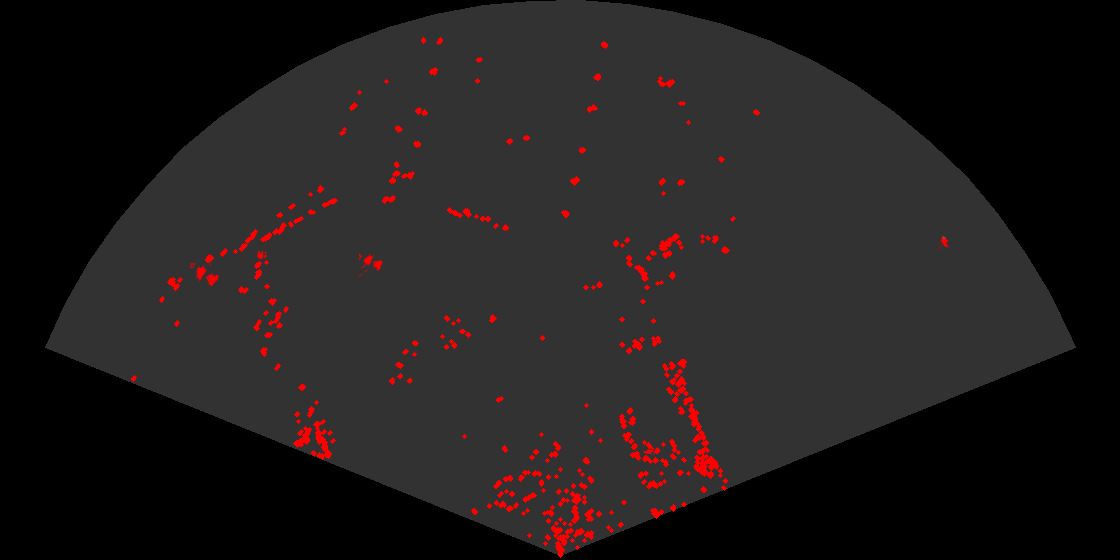AUV: (937, 234, 950, 249), (641, 448, 654, 454)
ball: (256, 249, 268, 261)
cage: (190, 263, 221, 288), (359, 252, 384, 277)
